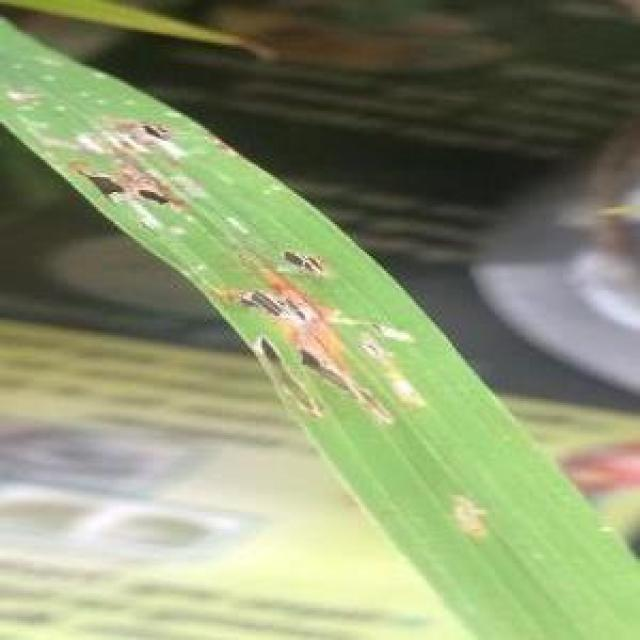Brown_Spot: (291, 344, 404, 434), (349, 326, 426, 405), (254, 338, 326, 414), (228, 280, 324, 334), (87, 113, 188, 162), (268, 246, 333, 286), (128, 177, 186, 216), (448, 487, 489, 542), (76, 167, 132, 199)
